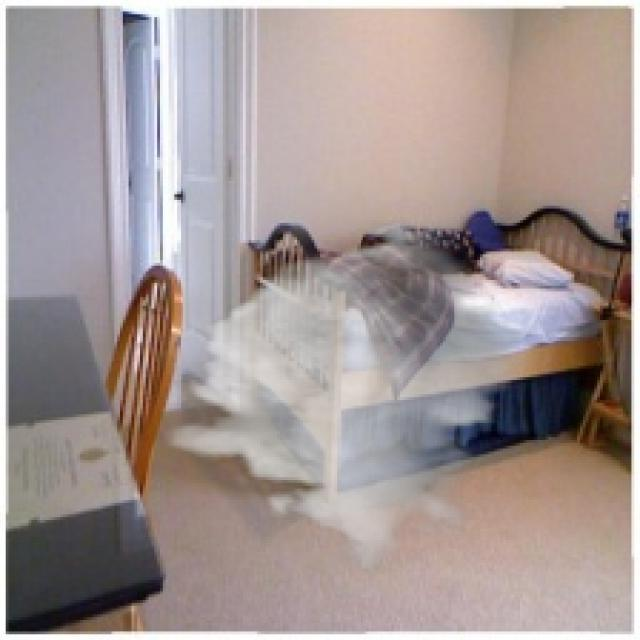Smoke: (160, 217, 537, 572)
